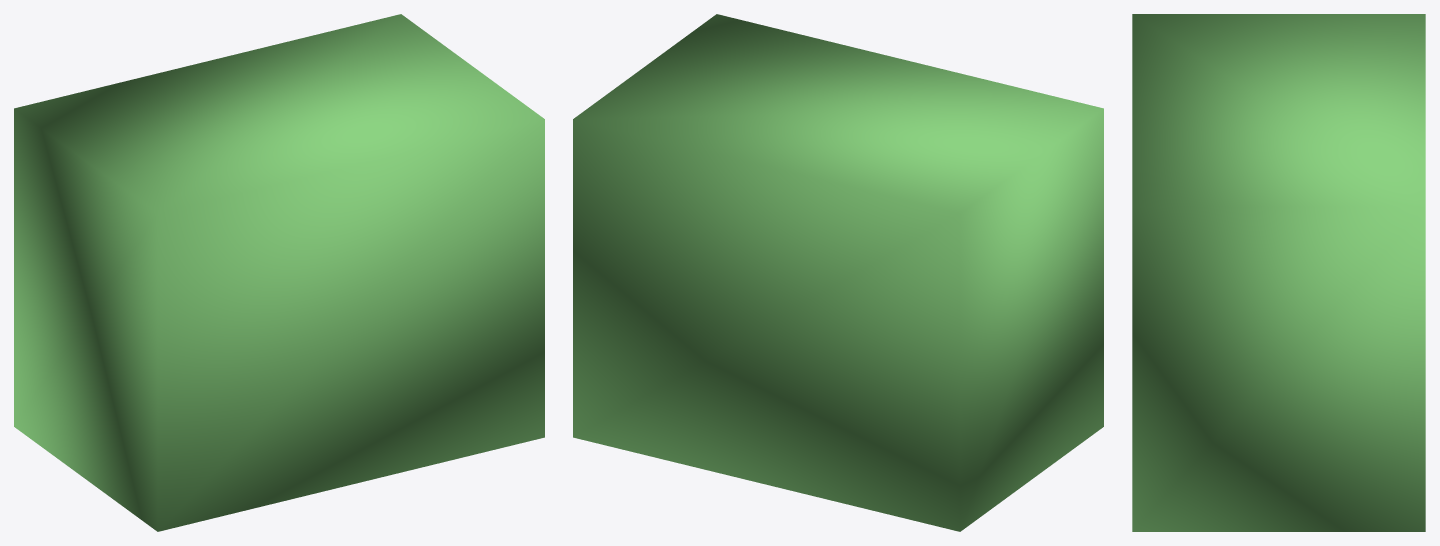
Rendered from plant_cell.glb.
The picture shows the model from 3 angles, left to right: view 1: azimuth 30°, elevation 25°; view 2: azimuth 150°, elevation 25°; view 3: azimuth 270°, elevation 25°; orthographic projection. The views are drawn at different scales.
Parts seen in each view (by area): view 1: wall; view 2: wall; view 3: wall.
Boxes of the visible parts, <box> form: wall: <box>14,14,544,531</box>; wall: <box>573,14,1103,531</box>; wall: <box>1132,14,1425,531</box>.
Bounding box in the file's own units: 1.4 × 1.1 × 0.9.
